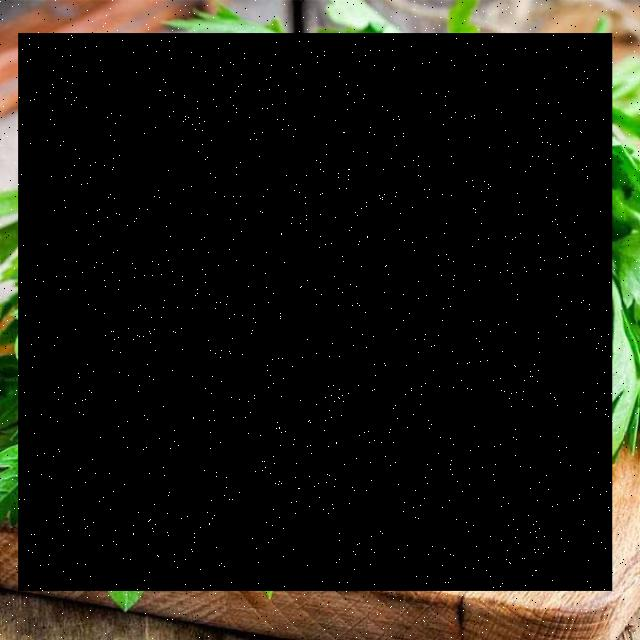Coriander: (19, 34, 613, 592)
